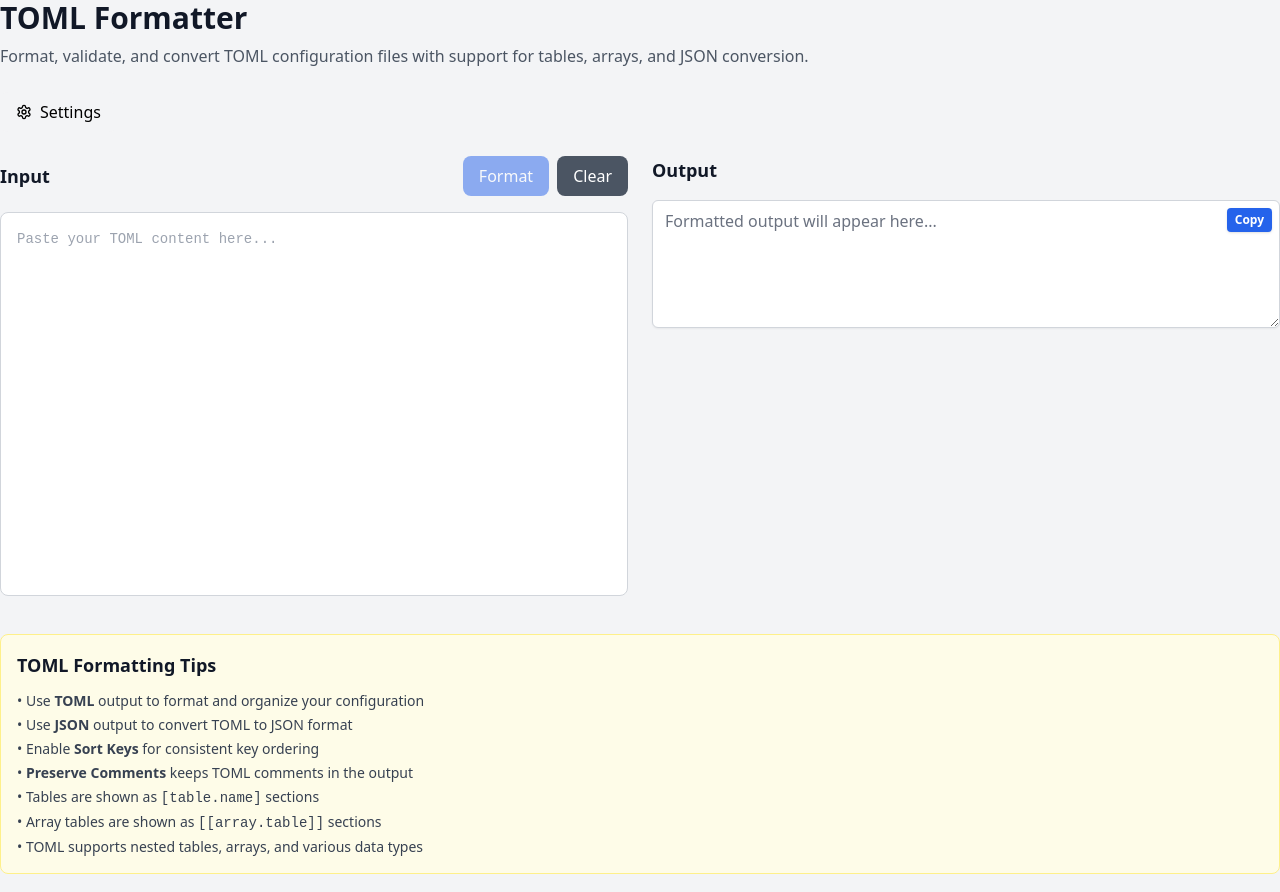
TomlFormatter › shows settings panel when settings button is clicked
Click the button "Settings" at [58, 112], box [0,92,117,132]
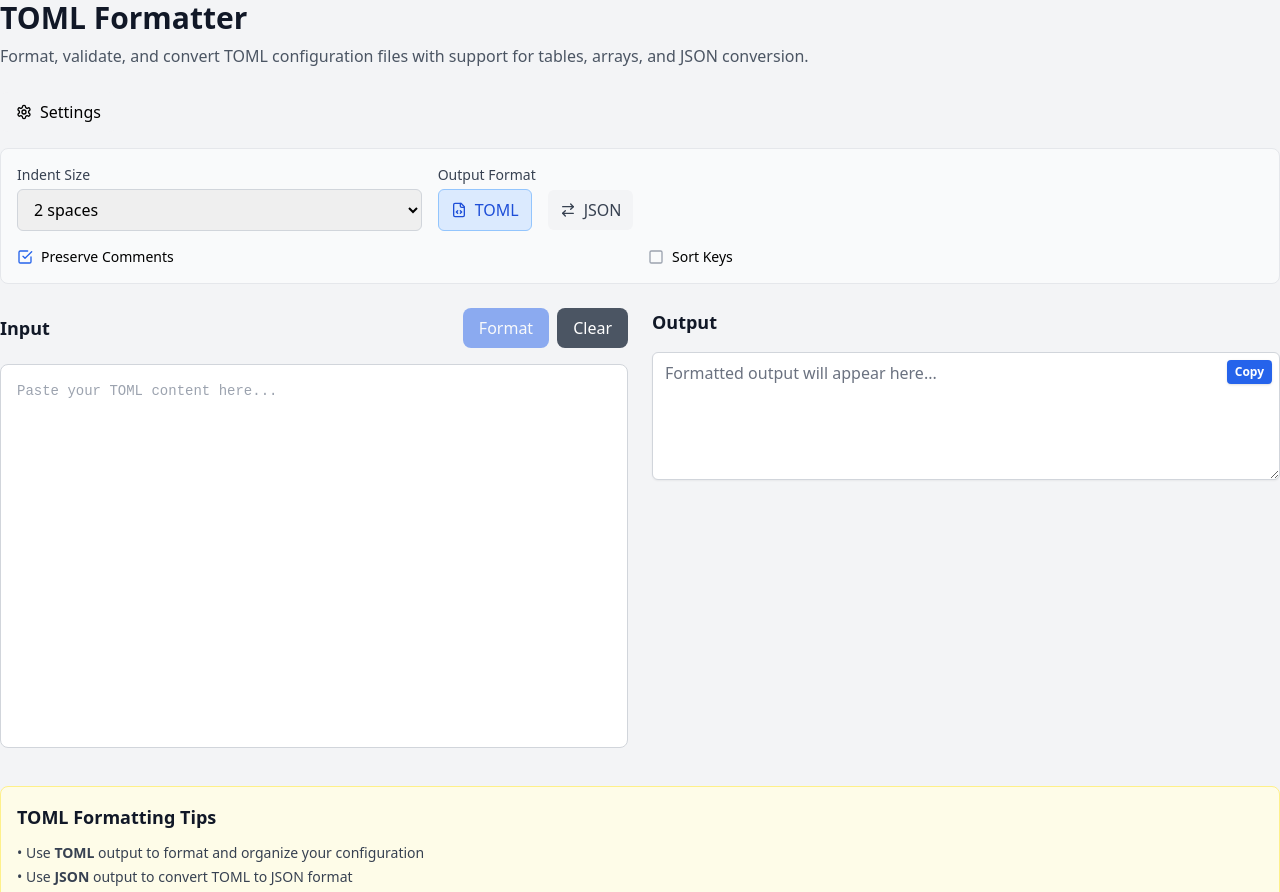
Expected: the text "Indent Size" is shown, [17,165,90,184]
Expected: the text "Output Format" is shown, [438,165,536,184]
Expected: the text "Preserve Comments" is shown, [41,247,174,267]
